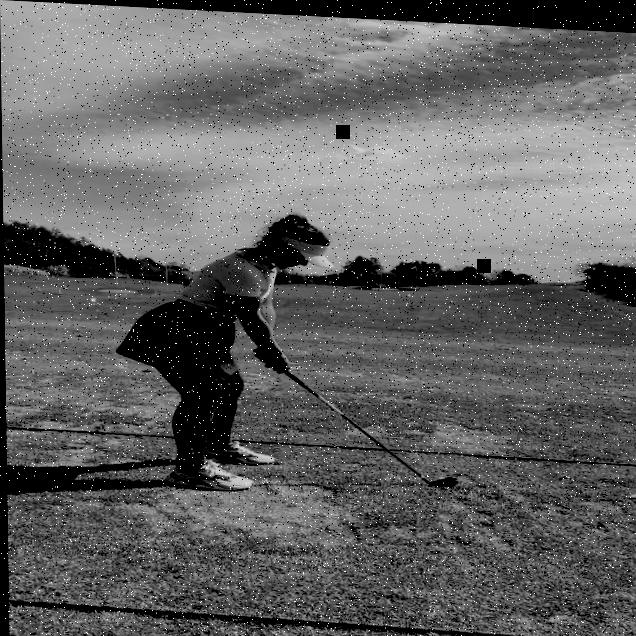ClubHead: (430, 470, 460, 487)
GolfBall: (435, 471, 446, 478)
